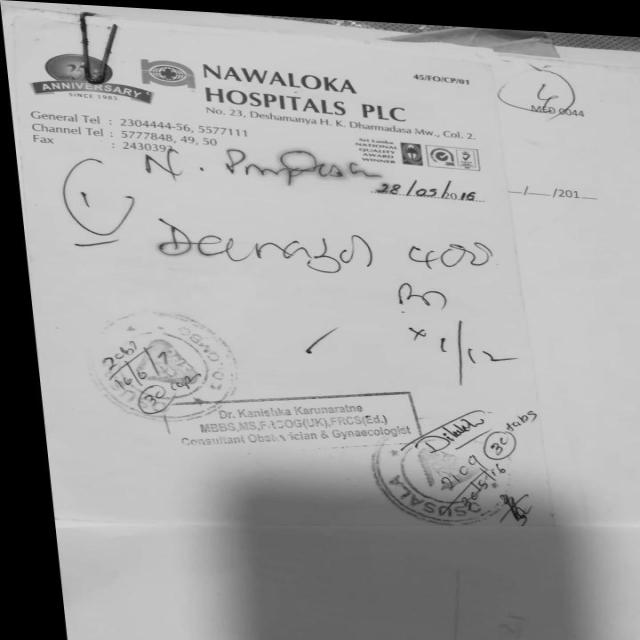Prescription: (154, 212, 516, 358)
